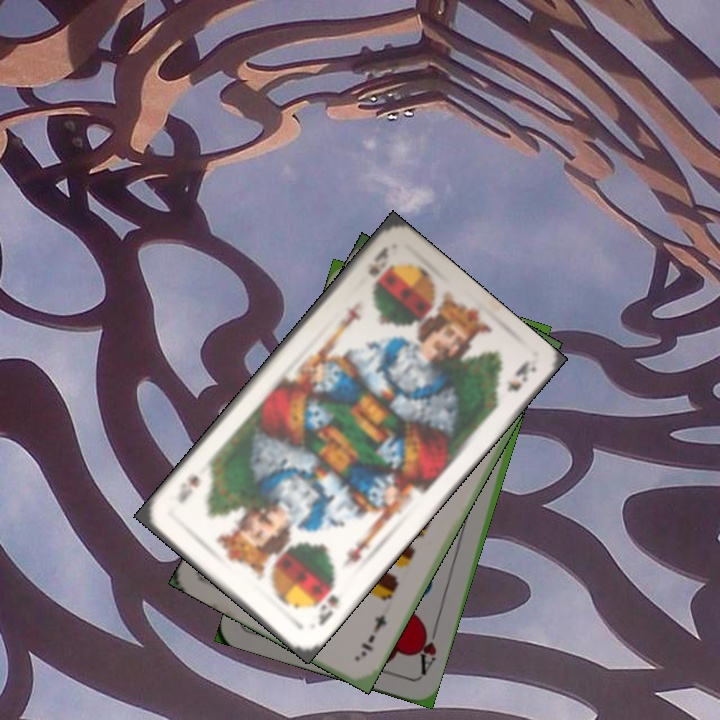E7: (356, 610, 390, 660)
HA: (412, 620, 441, 678)
SK: (313, 591, 342, 628), (364, 242, 392, 280)
